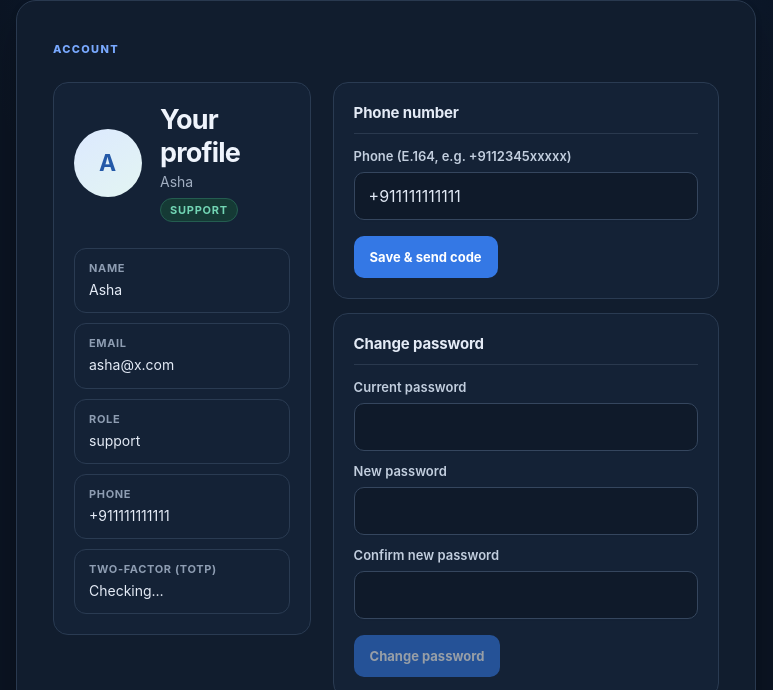
ProfilePanel › changes the Cognito password and clears the password fields on success
Type "OldPassword!123" into the password field labelled "Current password".
click(526, 427); type("OldPassword!123")  # box left=354, top=403, right=698, bottom=451
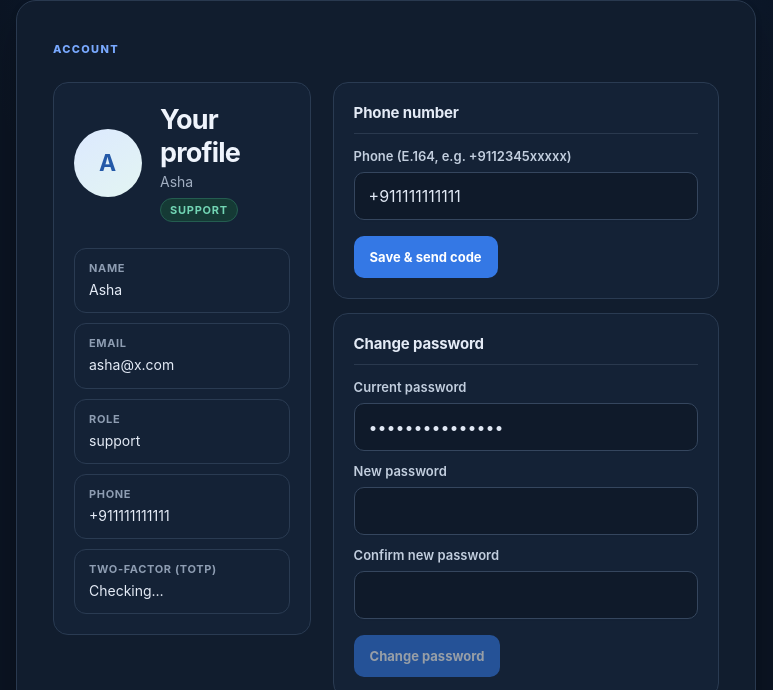
Type "NewPassword!123" into the password field labelled "New password".
click(526, 511); type("NewPassword!123")  # box left=354, top=487, right=698, bottom=535
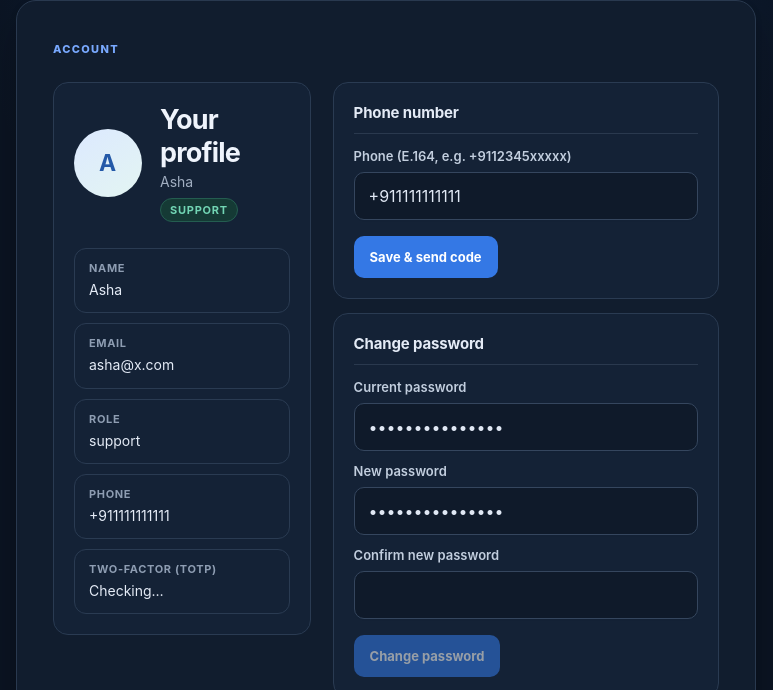
Type "NewPassword!123" into the password field labelled "Confirm new password".
click(526, 595); type("NewPassword!123")  # box left=354, top=571, right=698, bottom=619
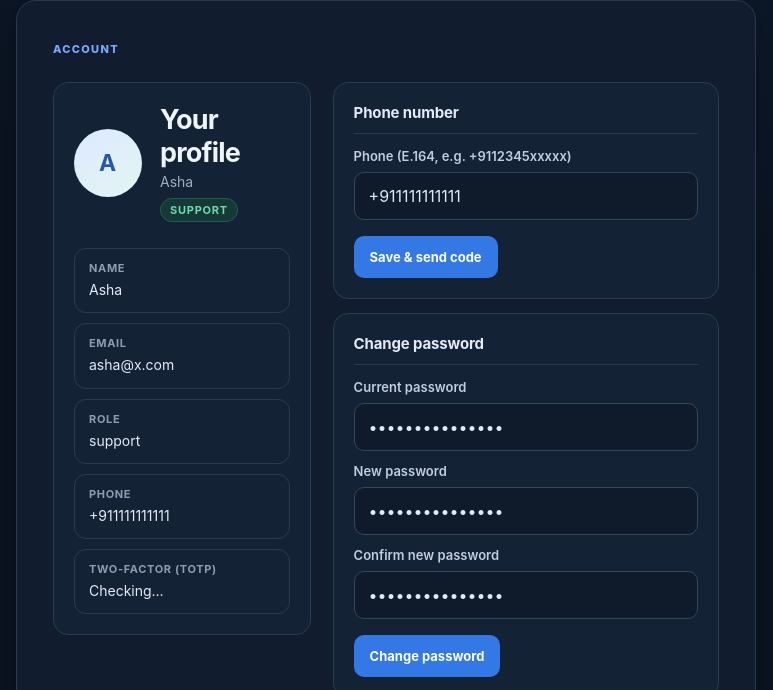
Click the button "Change password".
click(427, 656)  # box left=354, top=635, right=500, bottom=677
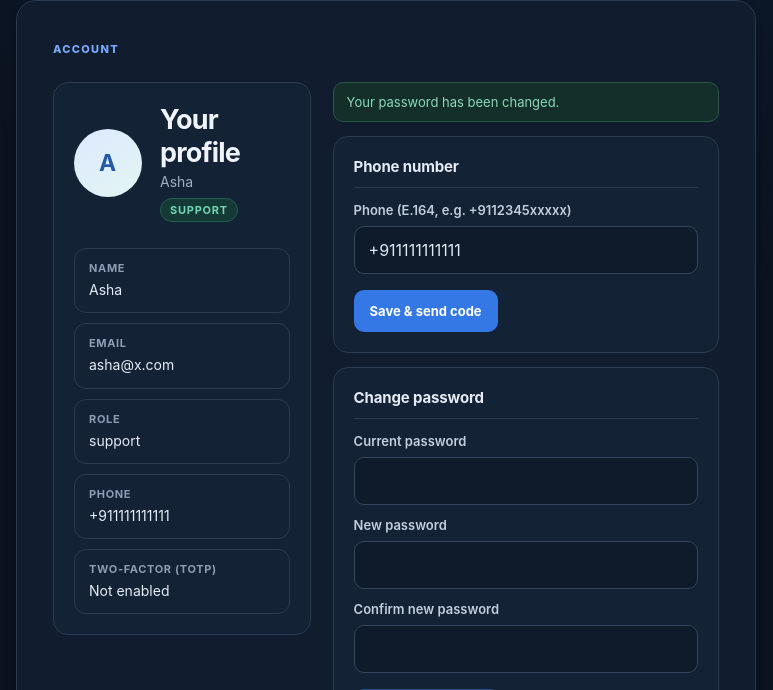
Now the text "Your password has been changed." is shown, box left=333, top=82, right=719, bottom=122
Now the password field labelled "Current password" is empty, box left=354, top=457, right=698, bottom=505
Now the password field labelled "New password" is empty, box left=354, top=541, right=698, bottom=589
